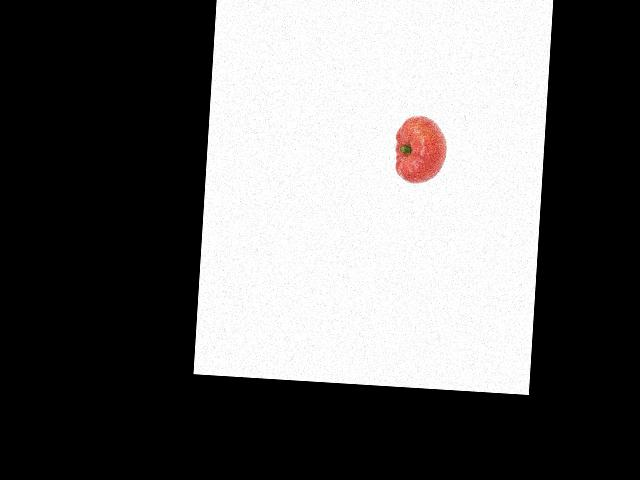tomato: (394, 114, 448, 184)
